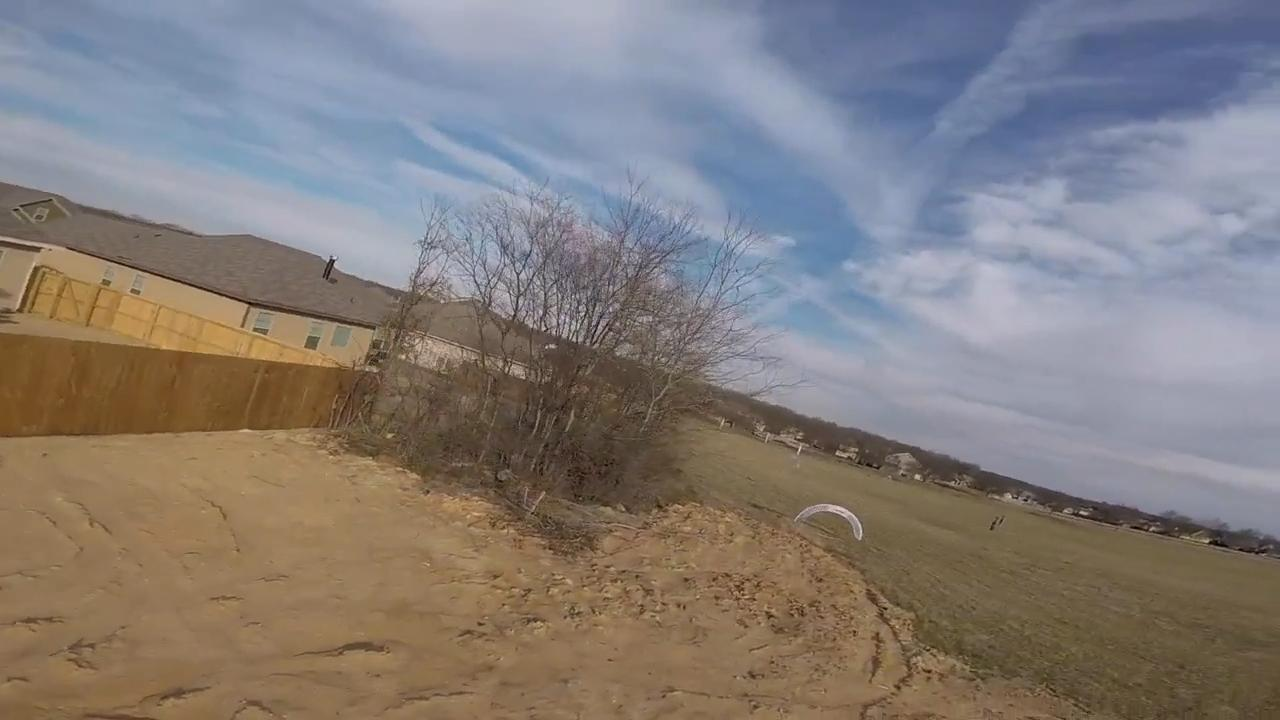gate: (792, 502, 866, 548)
